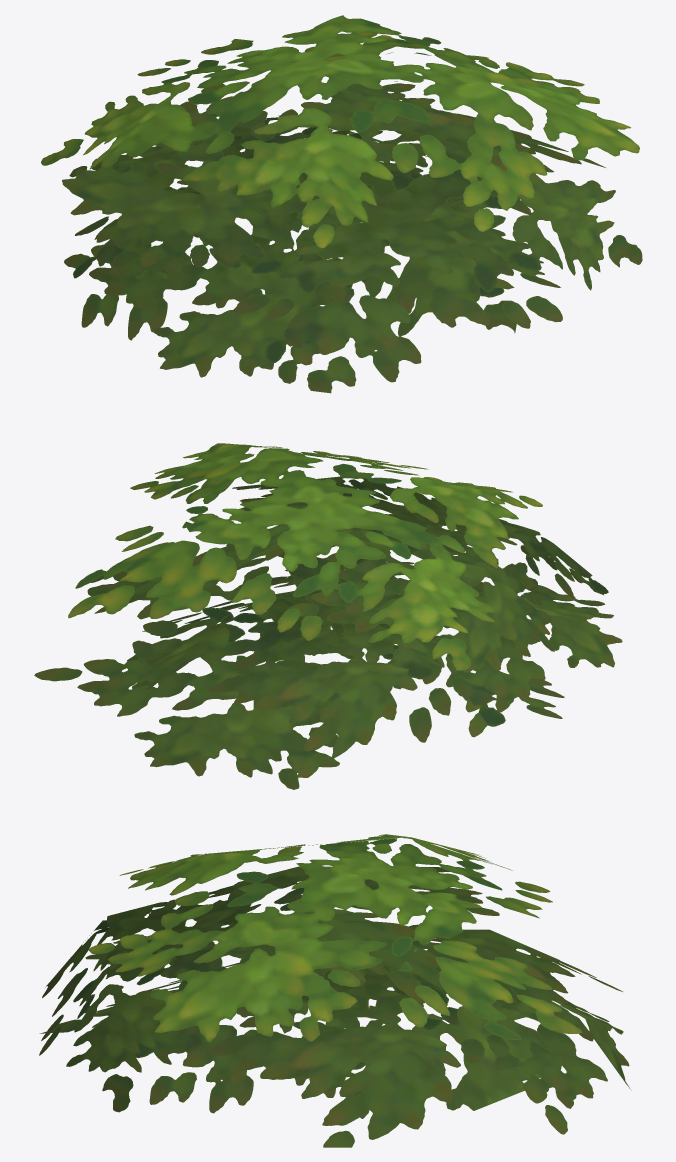
3 views of the same model, one above another, from view 1: azimuth 30°, elevation 25°; view 2: azimuth 150°, elevation 25°; view 3: azimuth 270°, elevation 25° (orthographic). The views are drawn at different scales.
Parts seen in each view (by area): view 1: MS0002_02_13_01; view 2: MS0002_02_13_01; view 3: MS0002_02_13_01.
Part boxes in pixels (x1,y1,x2,y2): MS0002_02_13_01: (41,15,642,393); MS0002_02_13_01: (34,443,622,789); MS0002_02_13_01: (39,834,631,1147).
Size of the model in its own units: 2.69 by 1 by 2.84.
